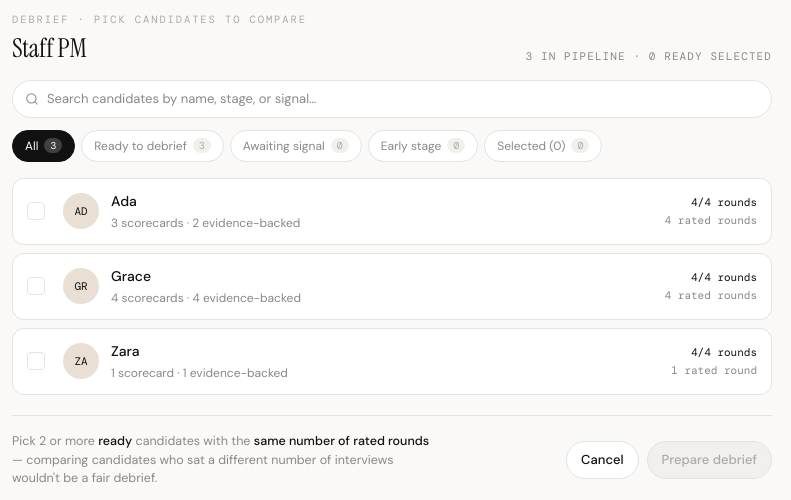
it: CandidatePicker — round-count parity gate › selecting a 4-round candidate disables a 1-round candidate, keeps a 4-round one
Click the button with id "cp-card-cr1" at x=81, y=211, box x1=12 y1=178 x2=772 y2=245
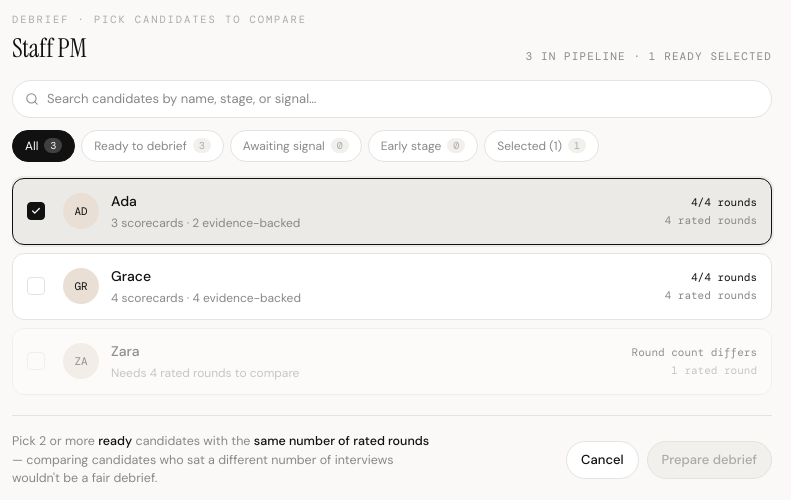
Expected: the text with id "cp-card-cr3-signal" shows "Needs 4 rated rounds", x1=111 y1=365 x2=299 y2=381
